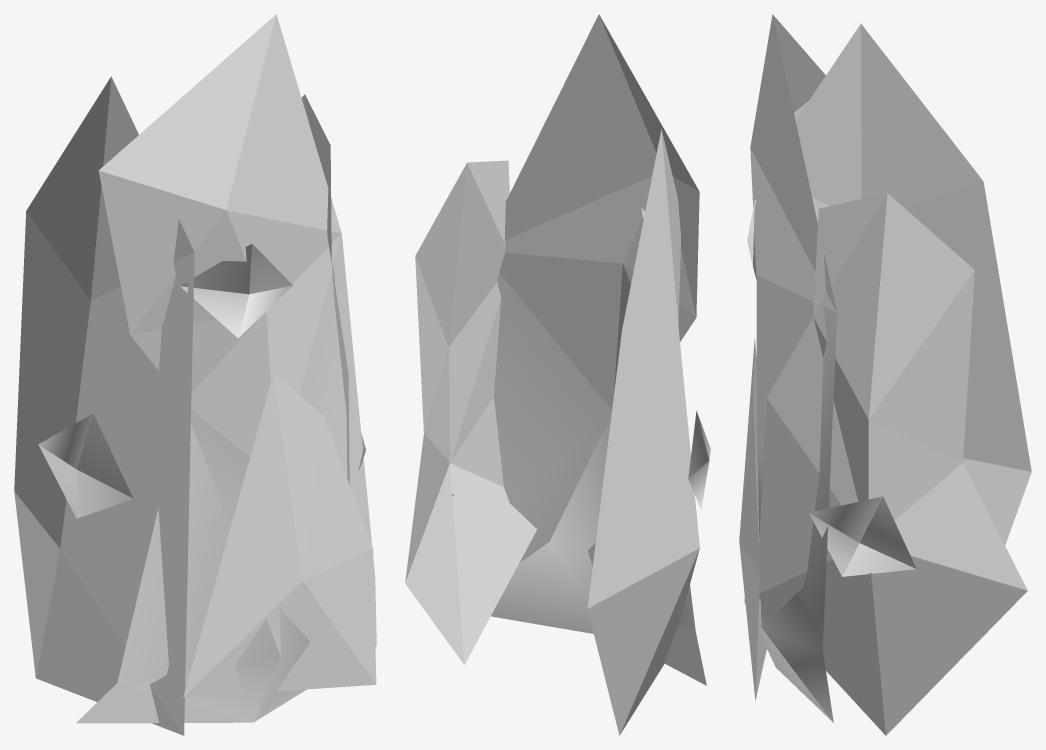
The model's file is SM_Env_Ivy_Pillar_Flowers_02.glb.
3 views of the same model, side by side, from view 1: azimuth 30°, elevation 25°; view 2: azimuth 150°, elevation 25°; view 3: azimuth 270°, elevation 25° (orthographic). The views are drawn at different scales.
Parts seen in each view (by area): view 1: SM_Env_Ivy_Pillar_Flowers_02; view 2: SM_Env_Ivy_Pillar_Flowers_02; view 3: SM_Env_Ivy_Pillar_Flowers_02.
Part boxes in pixels (x1,y1,x2,y2): SM_Env_Ivy_Pillar_Flowers_02: [14, 14, 376, 735]; SM_Env_Ivy_Pillar_Flowers_02: [405, 14, 710, 735]; SM_Env_Ivy_Pillar_Flowers_02: [739, 14, 1031, 735].
Size of the model in its own units: 0.6073 by 1.38 by 0.5398.
Materials: 1 (1 with a texture image).
